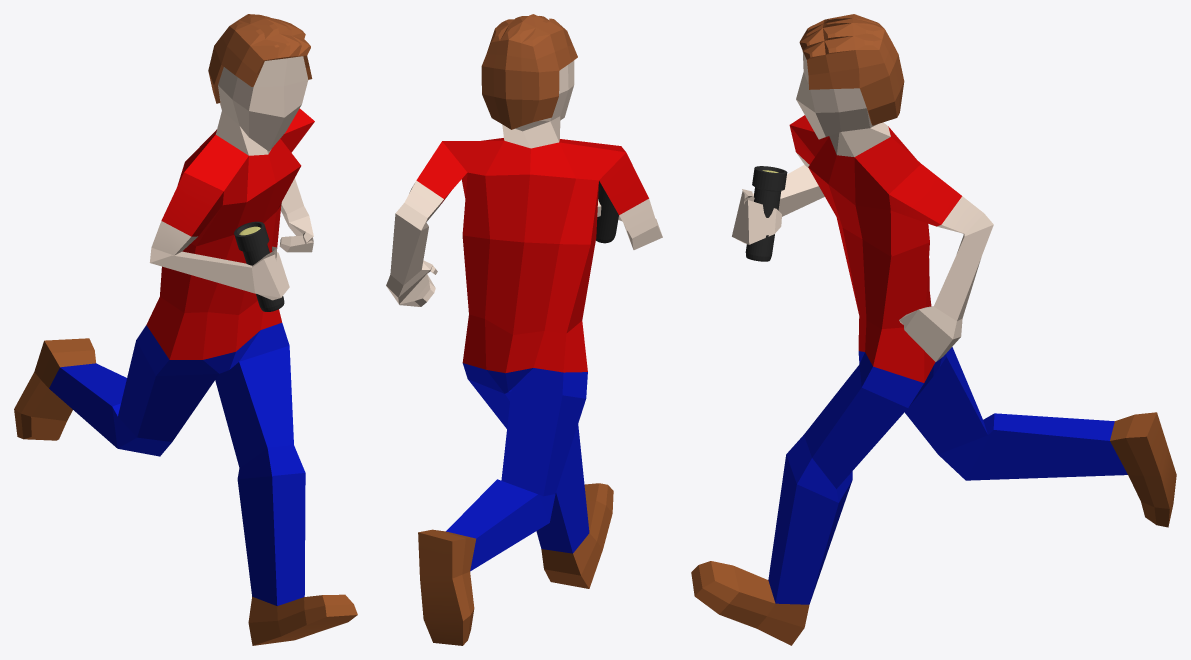
Rendered from Human_running_7.fbx.
3 renders of one model, left to right at view 1: azimuth 30°, elevation 25°; view 2: azimuth 150°, elevation 25°; view 3: azimuth 270°, elevation 25°, orthographic. The views are drawn at different scales.
Visible parts, largest first — view 1: Person.004, Flashlight; view 2: Person.004, Flashlight; view 3: Person.004, Flashlight.
Boxes of the visible parts, x1,y1,x2,y2 form: Person.004: (14, 14, 357, 645); Flashlight: (234, 221, 284, 311); Person.004: (386, 14, 662, 645); Flashlight: (596, 181, 618, 243); Person.004: (691, 14, 1176, 645); Flashlight: (745, 166, 787, 261).
Size of the model in its own units: 0.597 by 1.54 by 1.09.
